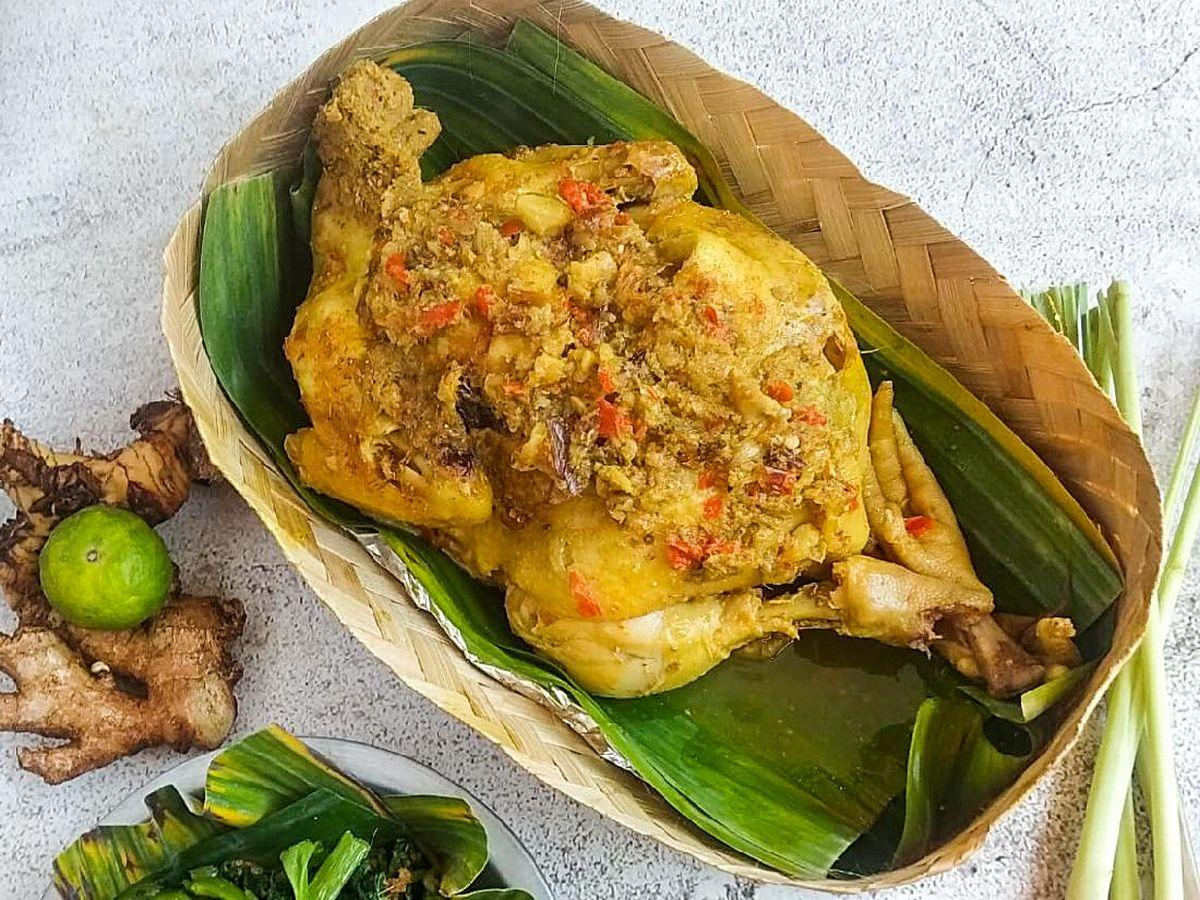ayam_betutu: (279, 57, 1079, 699)
